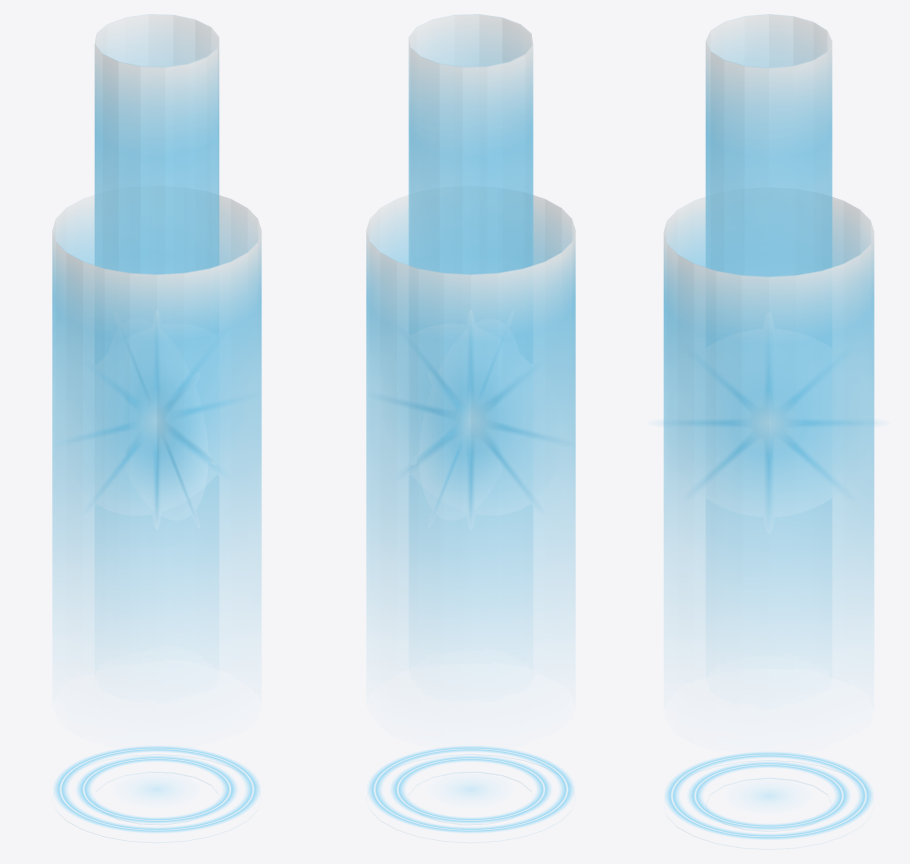
File: fx_up_thunder.glb
The picture shows the model from 3 angles, left to right: view 1: azimuth 30°, elevation 25°; view 2: azimuth 150°, elevation 25°; view 3: azimuth 270°, elevation 25°; orthographic projection.
Parts seen in each view (by area): view 1: fx_up_pillar, fx_up_star, fx_up_ring; view 2: fx_up_pillar, fx_up_star, fx_up_ring; view 3: fx_up_pillar, fx_up_star, fx_up_ring.
Part boxes in pixels (x1,y1,x2,y2): fx_up_pillar: (52,14,261,842); fx_up_star: (64,347,239,517); fx_up_ring: (54,746,259,832); fx_up_pillar: (366,14,575,842); fx_up_star: (387,342,563,516); fx_up_ring: (368,746,573,832); fx_up_pillar: (663,14,874,849); fx_up_star: (661,352,876,510); fx_up_ring: (665,752,872,839).
Bounding box in the file's own units: 1.2 × 4 × 1.2.
3 materials, 3 textured.
